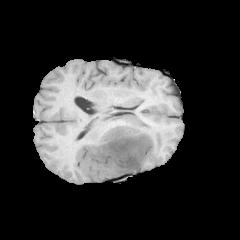glioma: (76, 110, 173, 177)
